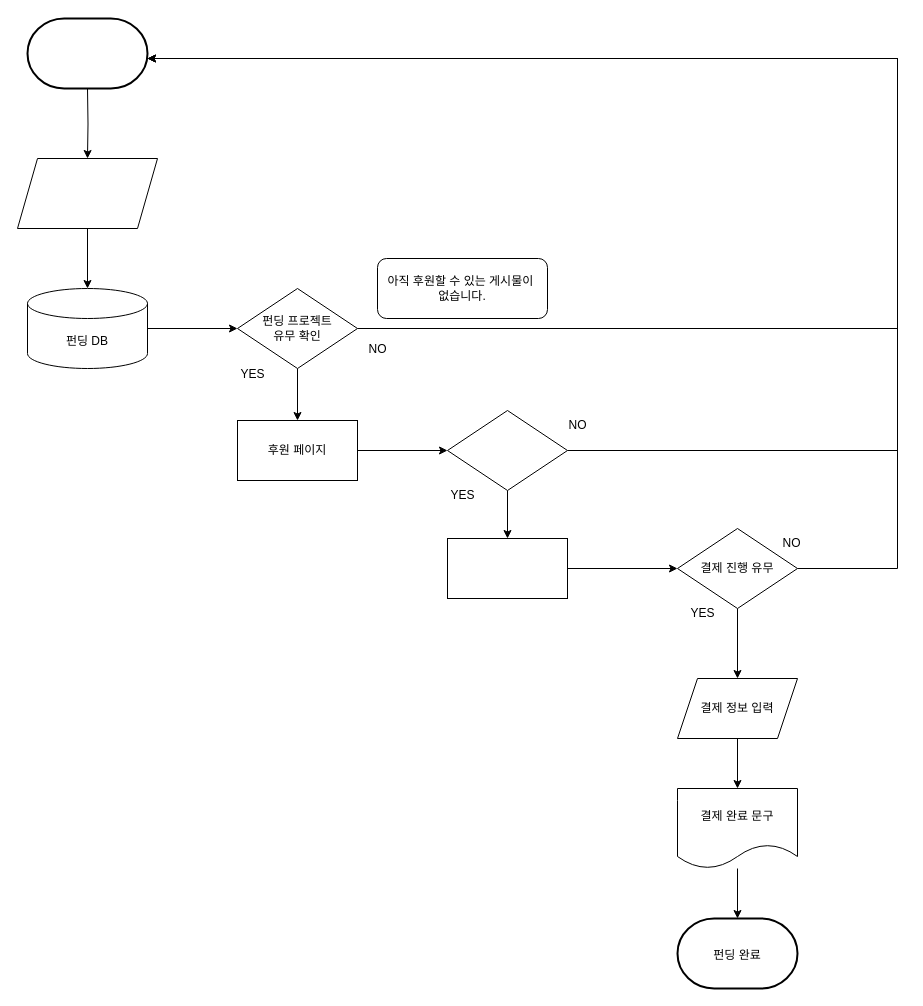
The diagram is 923 pixels wide and 1006 high, and some of its shapes have lost their labels. Each missing label, with the box of its shape:
결제 페이지: (446, 538, 568, 598)
펀딩 페이지: (26, 17, 148, 89)
후원 진행 유무: (446, 410, 568, 490)
후원할 펀딩 검색: (16, 158, 158, 228)
